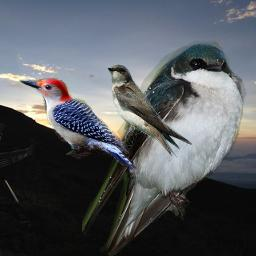Swallow: (82, 36, 248, 256), (107, 64, 192, 158)
Woodpecker: (19, 78, 137, 170)
